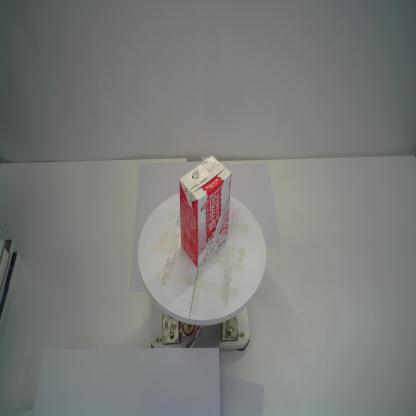Milk: (178, 154, 233, 268)
